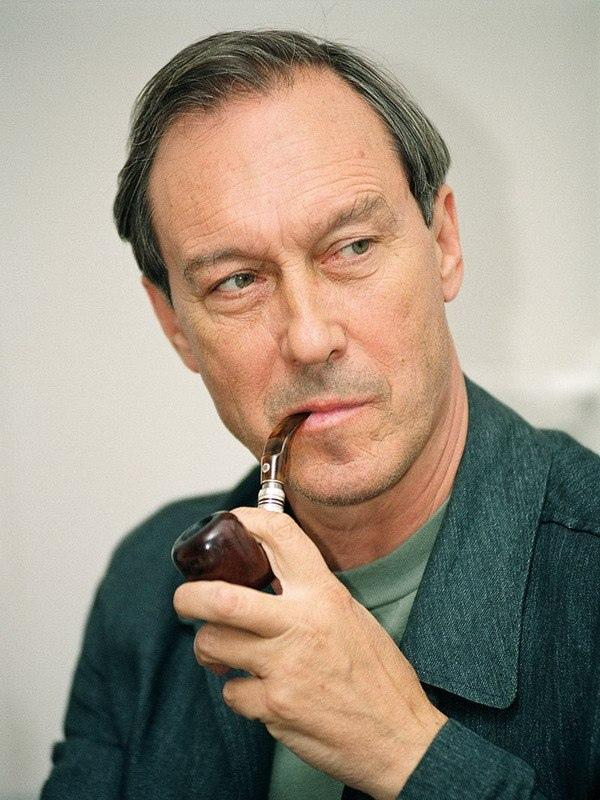trubka: (170, 410, 311, 590)
